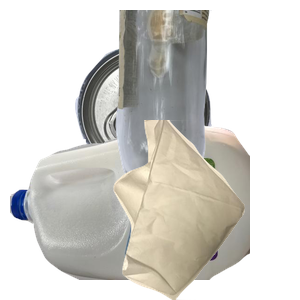glass: (113, 10, 300, 190)
metal: (73, 42, 277, 212)
plastic: (10, 120, 250, 300)
trash: (111, 120, 300, 300)
